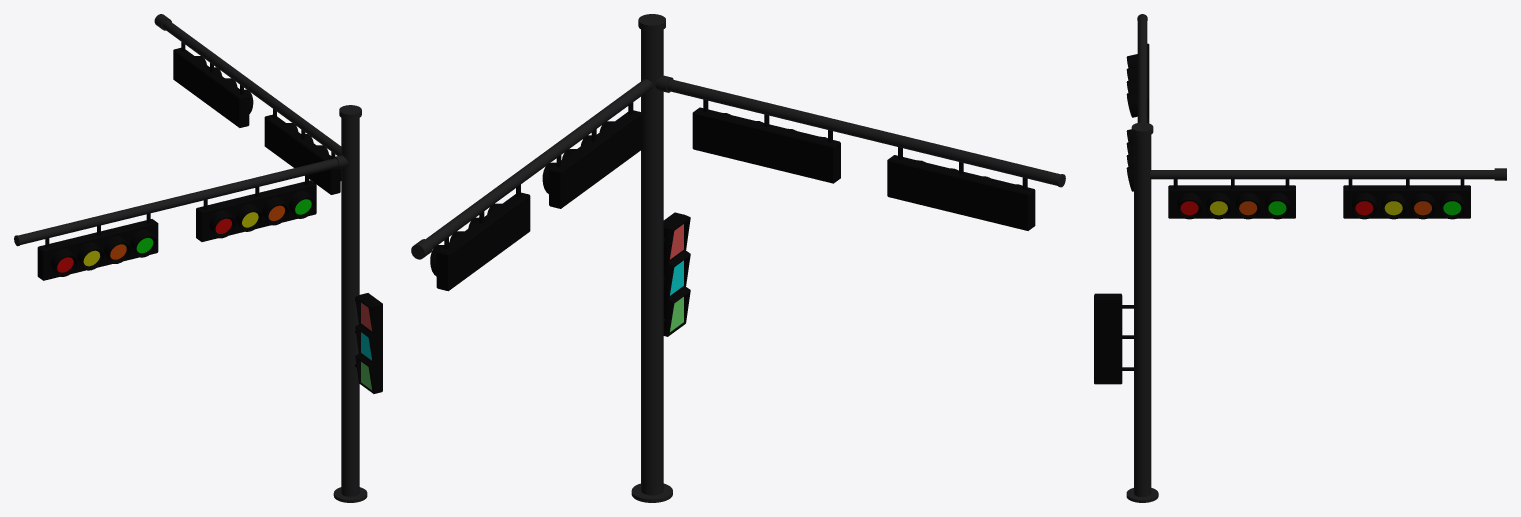
Rendered from stoplight_3.fbx.
3 renders of one model, left to right at view 1: azimuth 30°, elevation 25°; view 2: azimuth 150°, elevation 25°; view 3: azimuth 270°, elevation 25°, orthographic. The views are drawn at different scales.
Visible parts, largest first — view 1: polySurface1635; view 2: polySurface1635; view 3: polySurface1635.
Part boxes in pixels (x1,y1,x2,y2): polySurface1635: [14, 14, 382, 502]; polySurface1635: [411, 14, 1065, 502]; polySurface1635: [1094, 14, 1506, 502].
Size of the model in its own units: 166 by 176 by 178.
